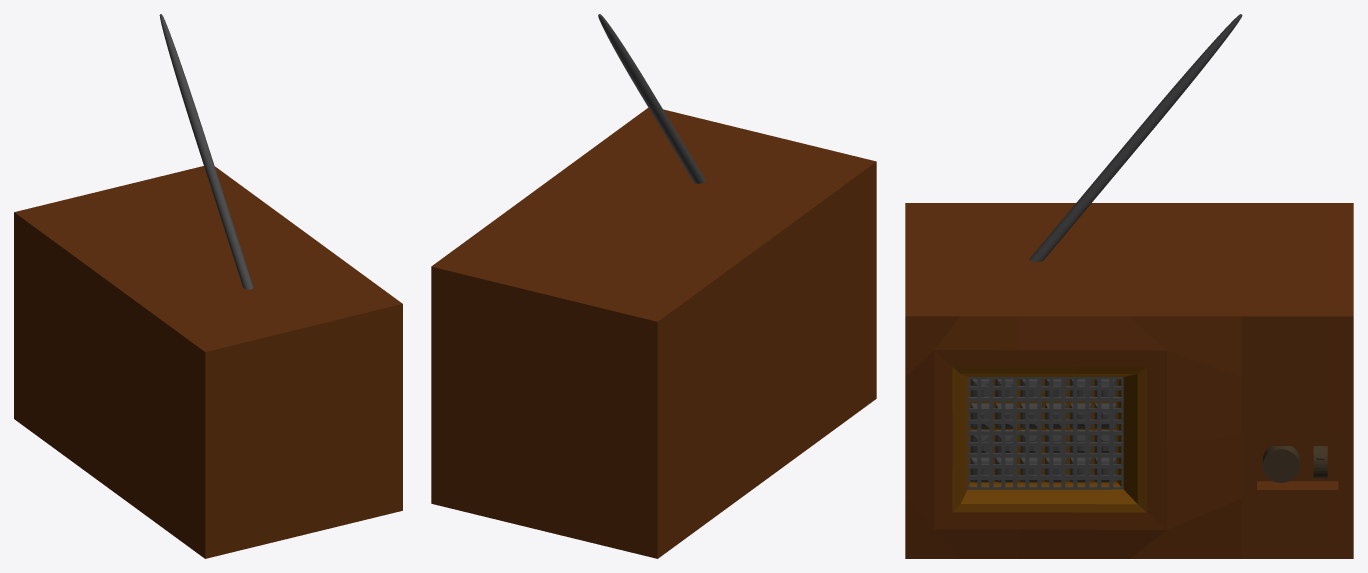
File: kerr.glb
3 renders of one model, left to right at view 1: azimuth 30°, elevation 25°; view 2: azimuth 150°, elevation 25°; view 3: azimuth 270°, elevation 25°, orthographic. The views are drawn at different scales.
Visible parts, largest first — view 1: Cube, Cylinder.002; view 2: Cube, Cylinder.002; view 3: Cube, Plane, Cylinder.002, Cylinder.
Boxes of the visible parts, x1=… form: Cube: x1=14, y1=166, x2=402, y2=558; Cylinder.002: x1=159, y1=14, x2=253, y2=289; Cube: x1=431, y1=107, x2=876, y2=558; Cylinder.002: x1=598, y1=14, x2=705, y2=183; Cube: x1=905, y1=203, x2=1353, y2=558; Plane: x1=967, y1=377, x2=1123, y2=489; Cylinder.002: x1=1029, y1=14, x2=1242, y2=262; Cylinder: x1=1262, y1=446, x2=1299, y2=482.
Size of the model in its own units: 2.06 by 4.02 by 3.35.
